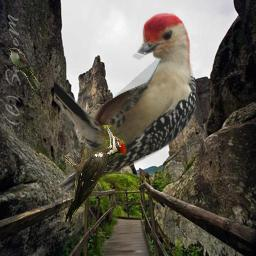Cuckoo: (7, 47, 40, 90)
Woodpecker: (54, 12, 196, 200), (59, 125, 127, 226)
